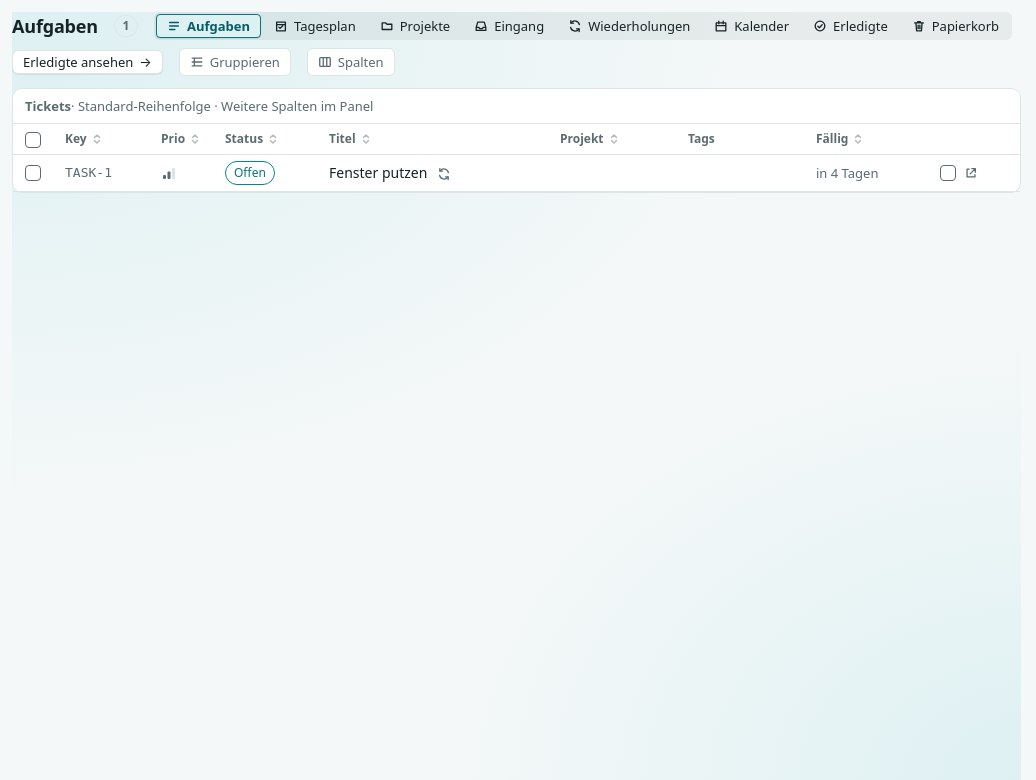
the offer after a change in a cell of the table › keeps the offer until it is closed, also long after 8 s
Click the button named "Priorität von TASK-1" at (181, 173), box [149,155,213,191]
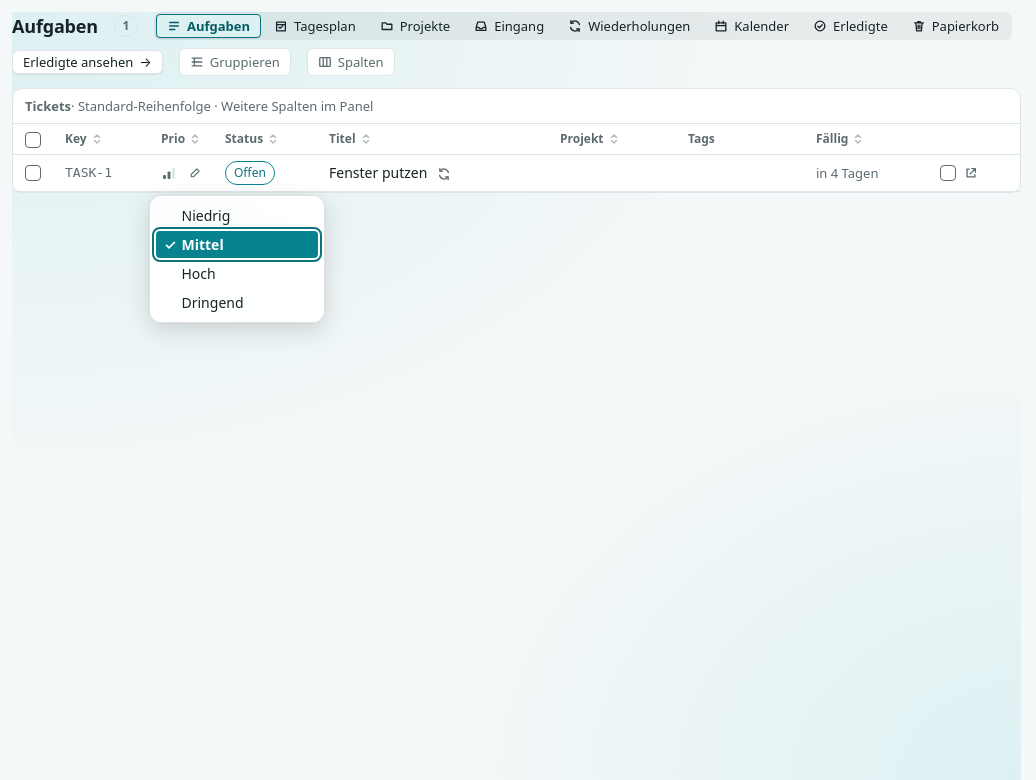
Click the menu item "Hoch" at (237, 273), box [156,260,318,287]
Wait 600000 ms
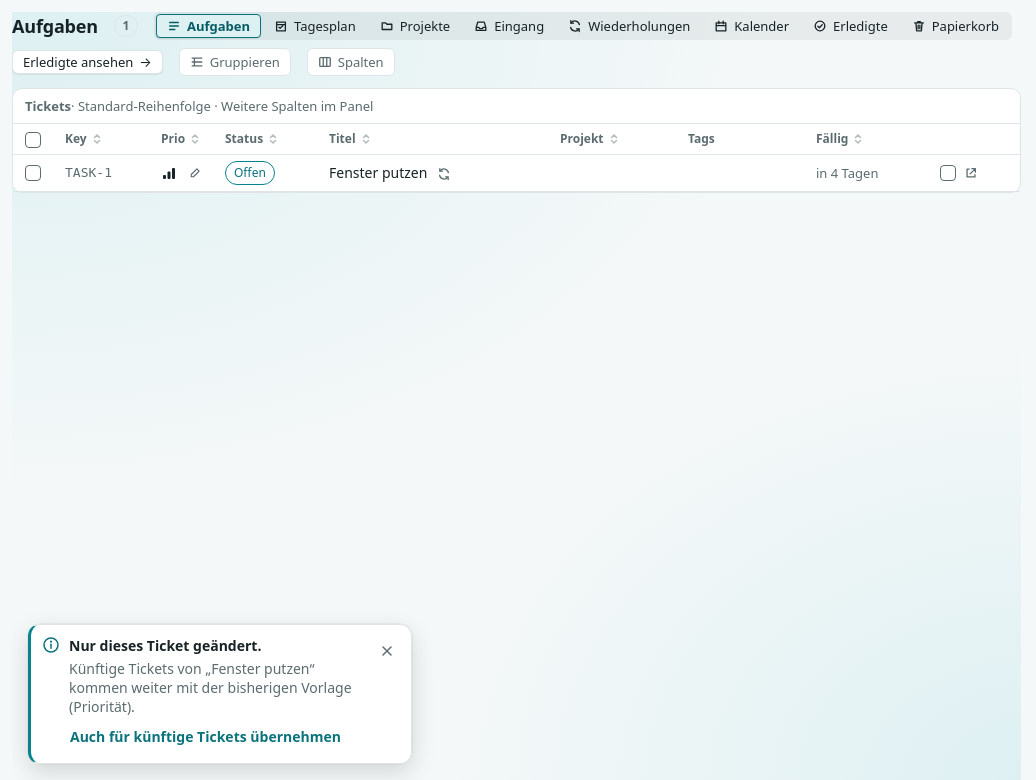
Now the list item named "Auch für künftige Tickets übernehmen" is shown, box [28,624,412,764]
Now the text "Nur dieses Ticket geändert." is shown, box [69,636,261,655]
Click the button named "Benachrichtigung schließen" at (387, 651), box [371,635,403,667]
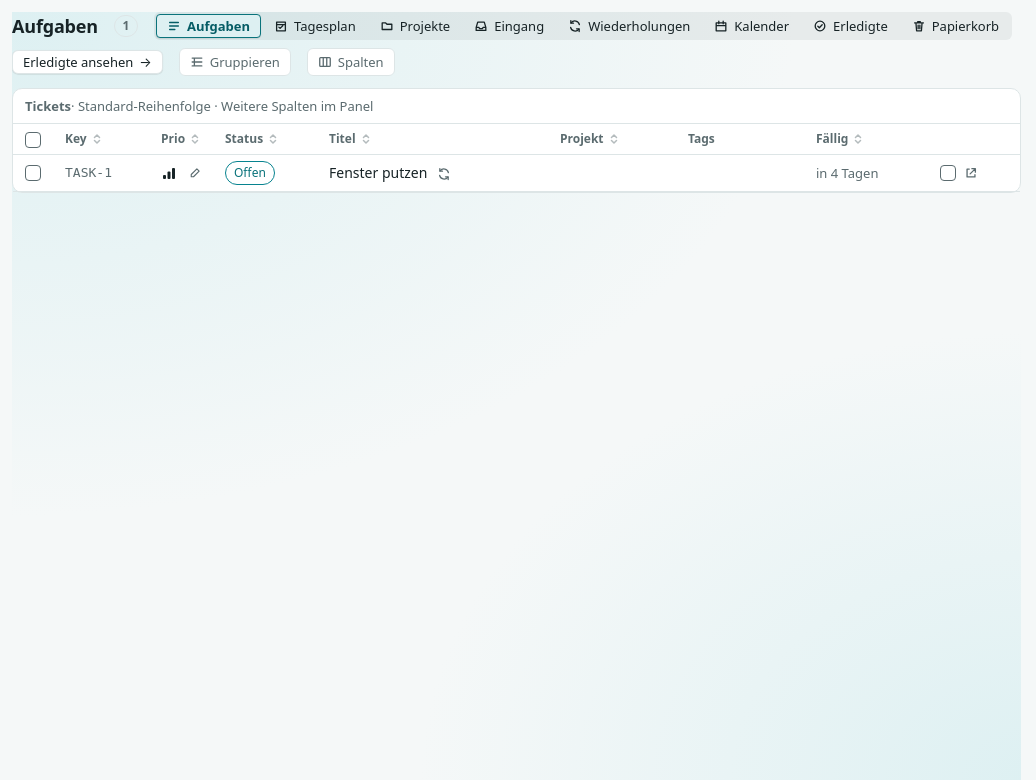
Now the button "Auch für künftige Tickets übernehmen" is gone
